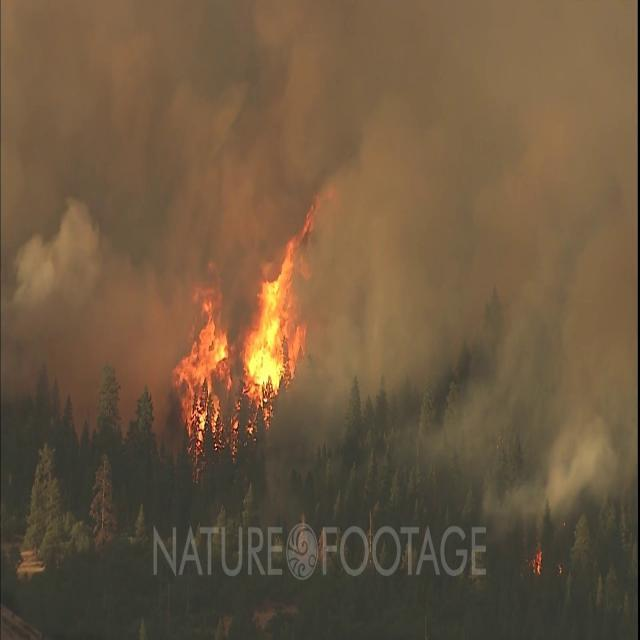Fire: (170, 196, 316, 464), (530, 550, 544, 576)
Smoke: (1, 1, 638, 540)
